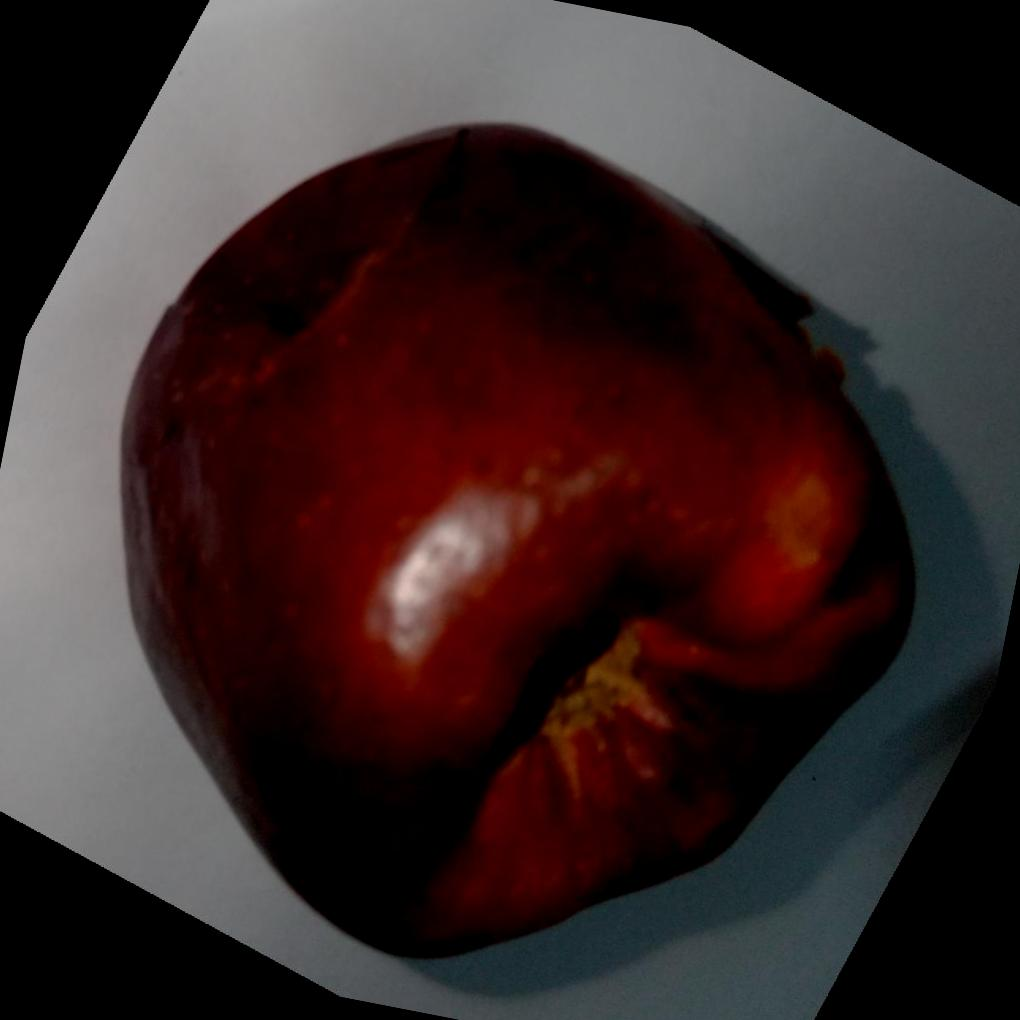FreshOrange: (118, 115, 917, 959)
